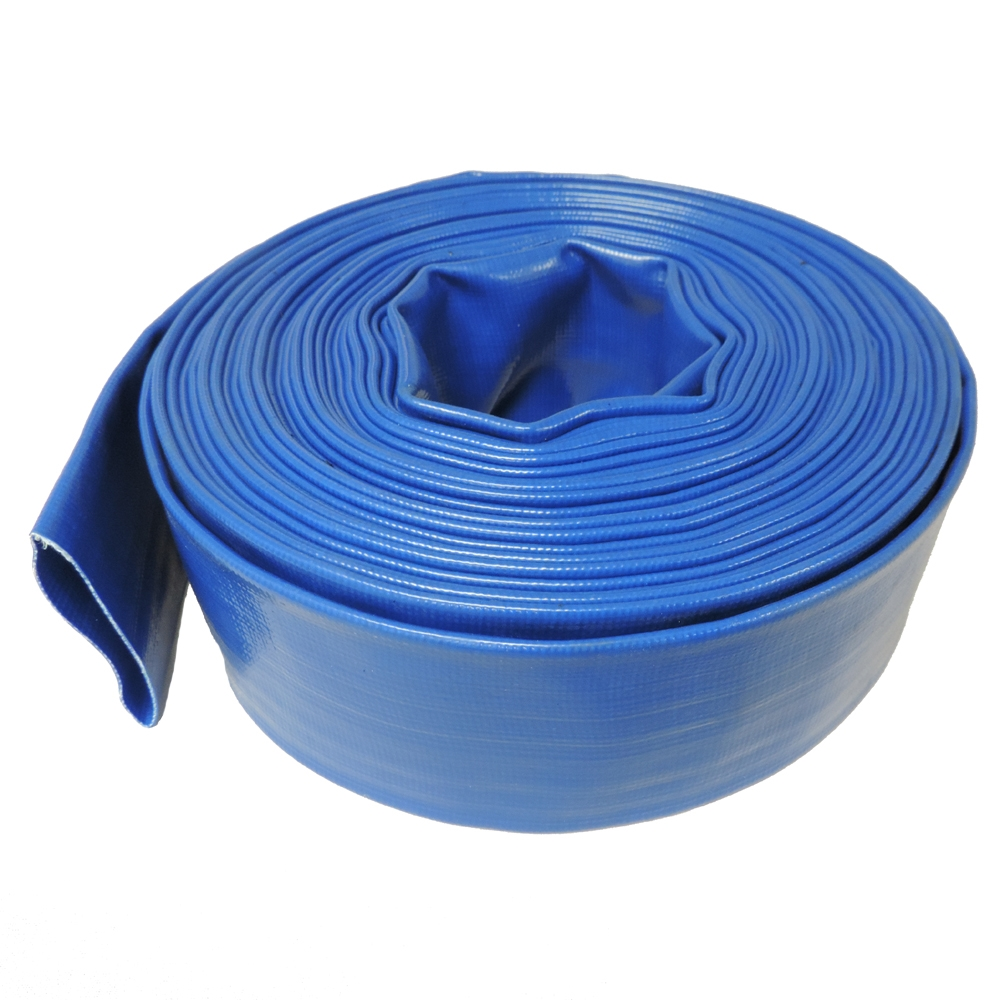Nonrec_Tangler: (17, 105, 977, 849)
